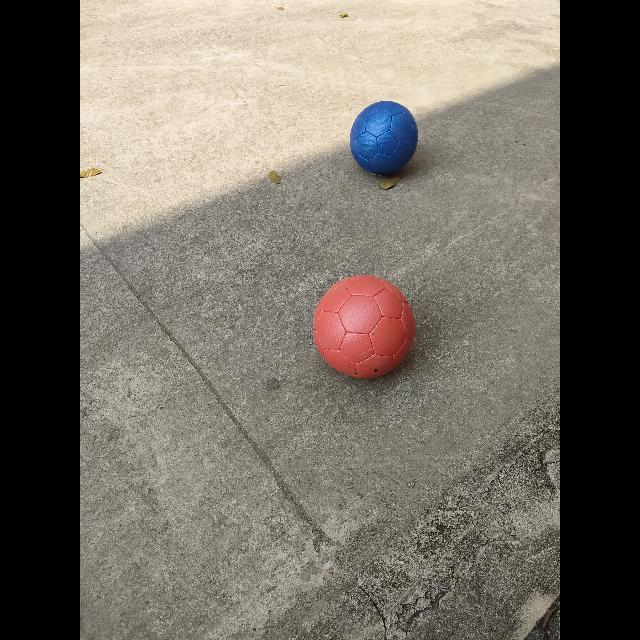B: (349, 100, 419, 177)
R: (313, 276, 416, 382)
